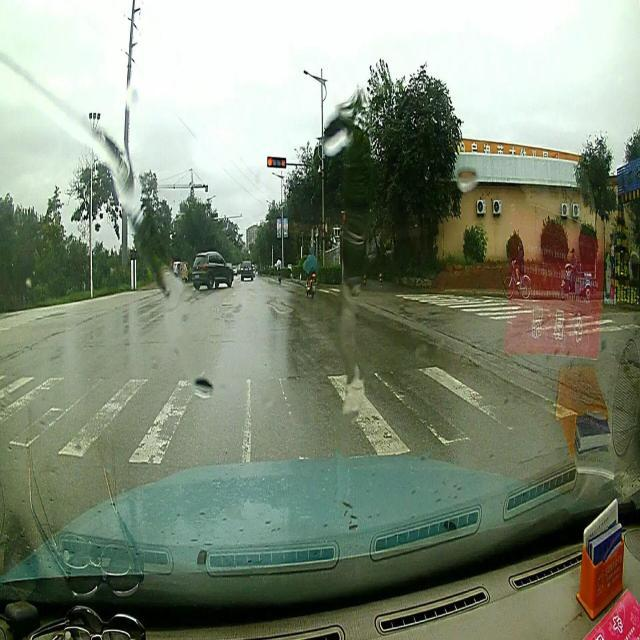car: (190, 249, 232, 289), (240, 256, 253, 280)
